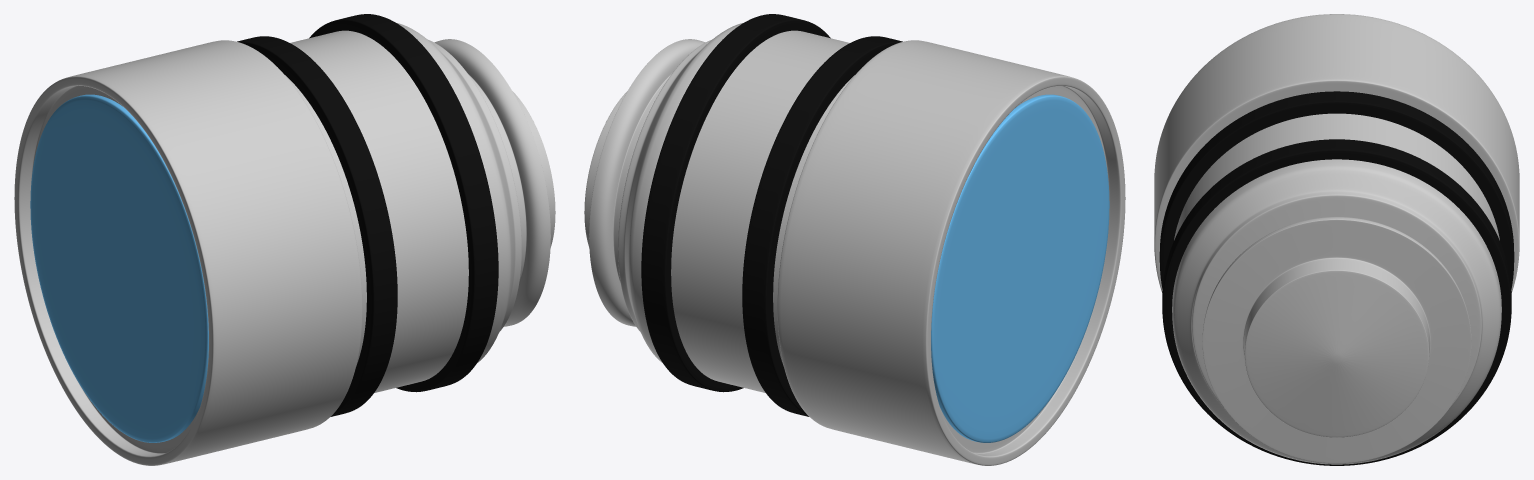
File: lens_18mm.fbx
The picture shows the model from 3 angles, left to right: view 1: azimuth 30°, elevation 25°; view 2: azimuth 150°, elevation 25°; view 3: azimuth 270°, elevation 25°; orthographic projection. The views are drawn at different scales.
Visible parts, largest first — view 1: Lens.002, Glass.002, Wheel_2.002, Wheel_1.002; view 2: Lens.002, Glass.002, Wheel_2.002, Wheel_1.002; view 3: Lens.002, Wheel_2.002, Wheel_1.002.
Part boxes in pixels (x1=…): Lens.002: x1=14, y1=23, x2=555, y2=465; Glass.002: x1=30, y1=94, x2=208, y2=442; Wheel_2.002: x1=309, y1=14, x2=498, y2=392; Wheel_1.002: x1=237, y1=36, x2=397, y2=416; Lens.002: x1=584, y1=23, x2=1125, y2=465; Glass.002: x1=931, y1=94, x2=1109, y2=442; Wheel_2.002: x1=641, y1=14, x2=830, y2=392; Wheel_1.002: x1=742, y1=36, x2=902, y2=416; Lens.002: x1=1154, y1=14, x2=1519, y2=464; Wheel_2.002: x1=1162, y1=139, x2=1511, y2=465; Wheel_1.002: x1=1159, y1=91, x2=1514, y2=288.
Bounding box in the file's own units: 66.65 × 57.28 × 57.28.
